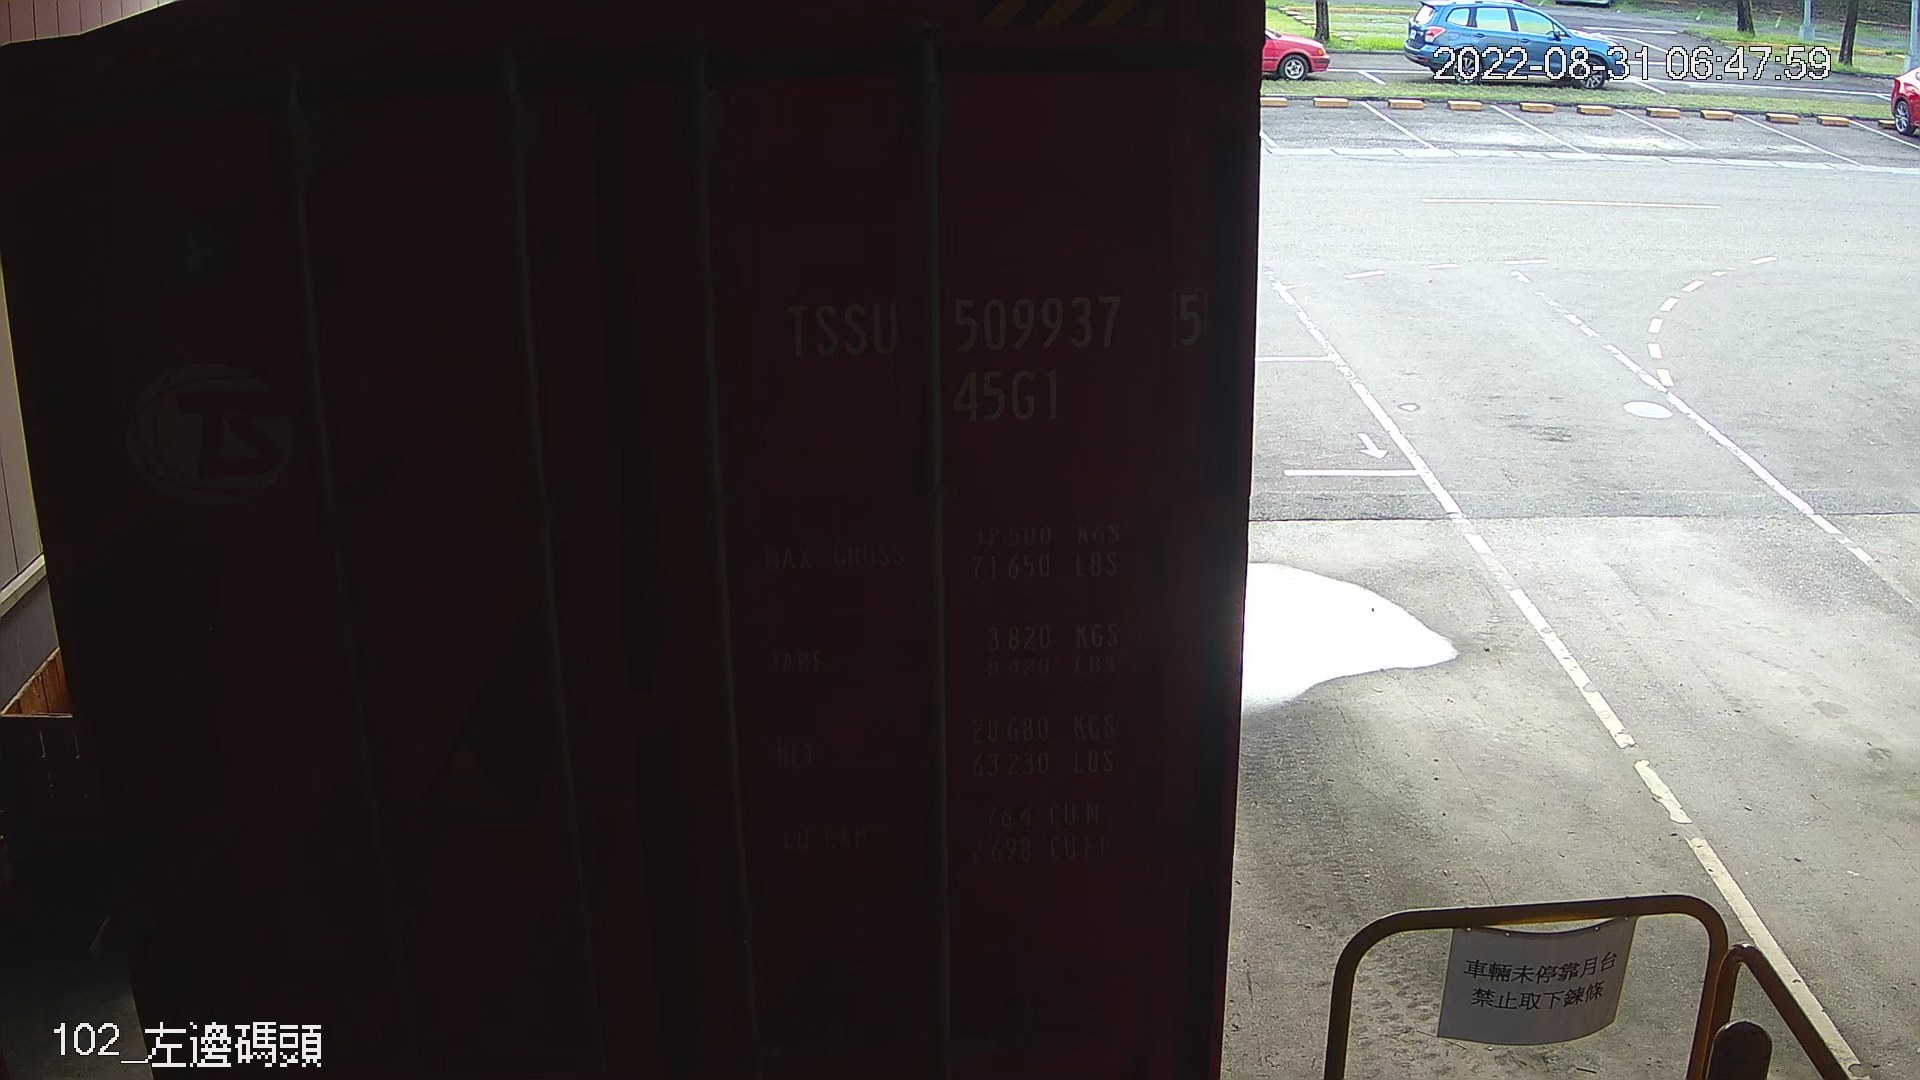container: (773, 280, 1229, 438)
